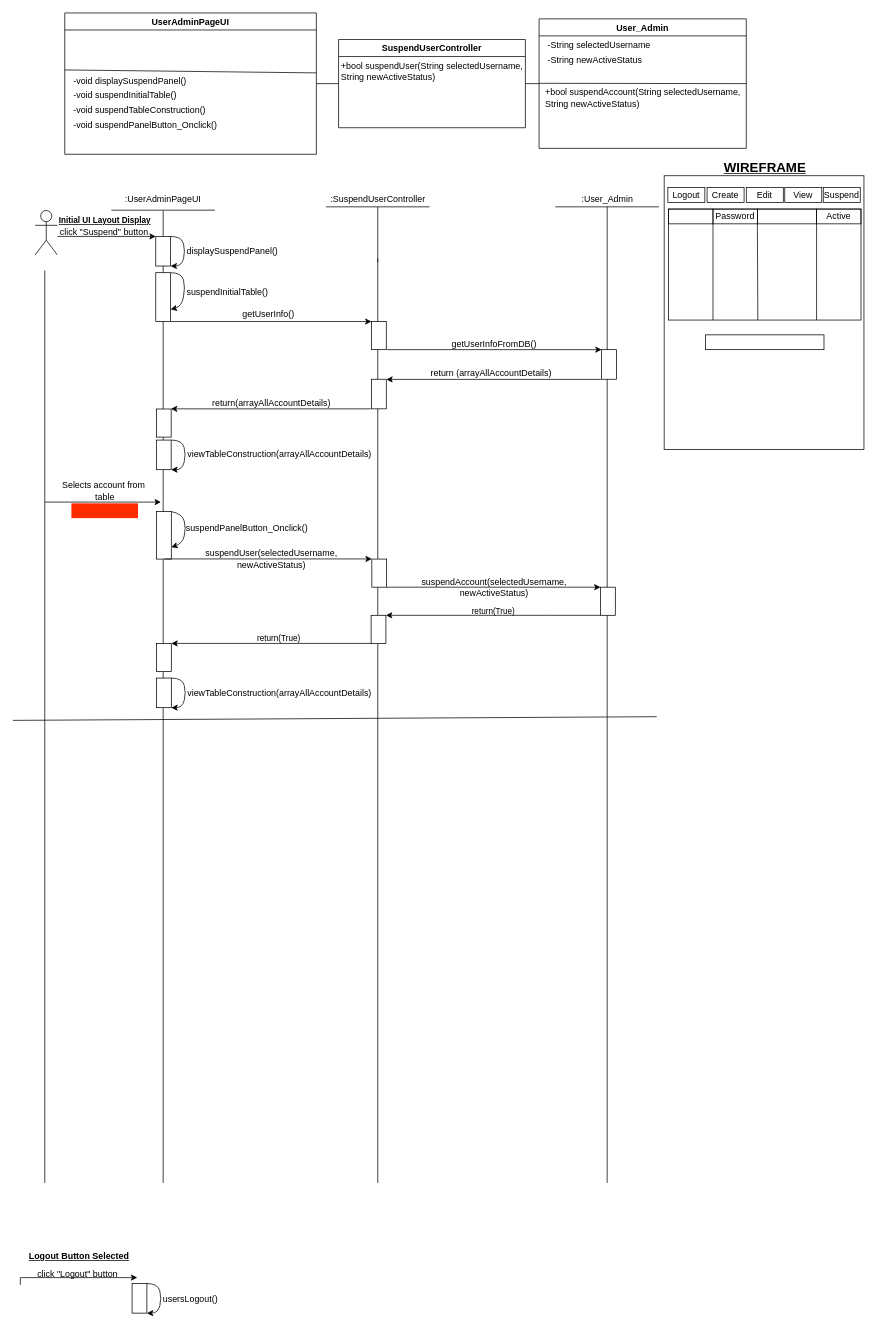
This 877x1329 diagram has some shape labels left out. The shapes that lost their labels are listed below. From the top down, each one's centre as x and y in pixels, then its label:
the point at 45,232: User Admin
the point at 690,216: Username
the point at 787,216: User Profile
the point at 764,342: Suspend / Unsuspend User
the point at 104,510: (actionlistener)
